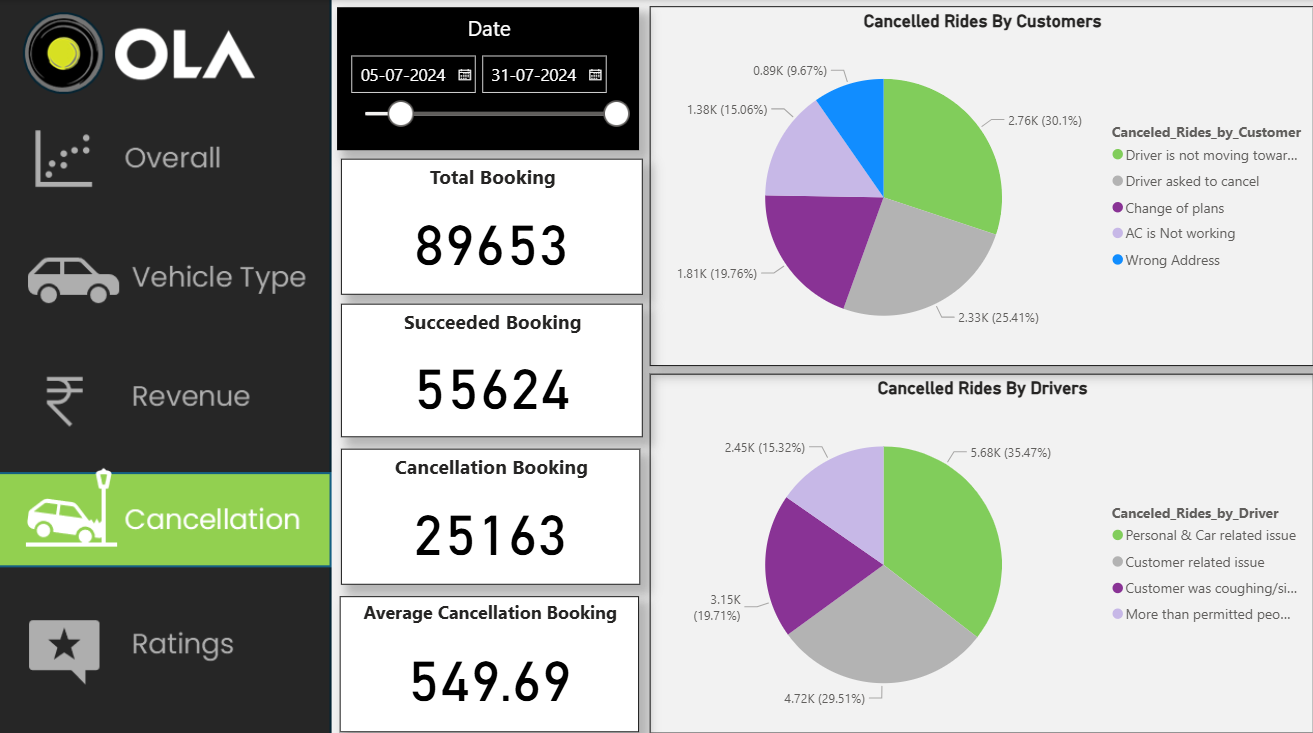

The dashboard page shown, as its layout file describes it:
{"tool":"powerbi","page":{"name":"Cancellation","canvas":[1280,720],"ordinal":3},"visuals":[{"type":"slicer","fields":{"Values":["Bookings.Date"]},"box":[329.8,6.8,291.4,137.8],"z":0},{"type":"card","title":"Total Booking","fields":{"Values":["CountNonNull(Bookings.Booking_ID)"]},"box":[332.6,153.6,291.4,131],"z":1000},{"type":"card","title":"Succeeded Booking","fields":{"Values":["CountNonNull(Bookings.Booking_ID)"]},"box":[332.6,293.7,291.4,128.8],"z":2000},{"type":"card","title":"Cancellation Booking","fields":{"Values":["CountNonNull(Bookings.Booking_ID)"]},"box":[332.6,433.7,289.1,131],"z":3000},{"type":"card","title":"Average Cancellation Booking","fields":{"Values":["Avg(Bookings.Booking_Value)"]},"box":[332.1,576,289.1,131],"z":4000},{"type":"pieChart","title":"Cancelled Rides By Customers","fields":{"Category":["Bookings.Canceled_Rides_by_Customer"],"Y":["CountNonNull(Bookings.Booking_ID)"]},"box":[631.4,5.9,641.2,347.1],"z":5000},{"type":"pieChart","title":"Cancelled Rides By Drivers","fields":{"Category":["Bookings.Canceled_Rides_by_Driver"],"Y":["CountNonNull(Bookings.Booking_Status)"]},"box":[631.4,360.8,641.2,347.1],"z":6000}]}

Visuals, with their boxes on the page's 1280x720 design canvas (x1, y1, x2, y2). These are canvas units, not pixel positions in the 1313x733 screenshot, which may show the page scaled, cropped or inside an application window:
slicer - Bookings.Date: [330, 7, 621, 145]
"Total Booking" card: [333, 154, 624, 285]
"Succeeded Booking" card: [333, 294, 624, 422]
"Cancellation Booking" card: [333, 434, 622, 565]
"Average Cancellation Booking" card: [332, 576, 621, 707]
"Cancelled Rides By Customers" pieChart: [631, 6, 1273, 353]
"Cancelled Rides By Drivers" pieChart: [631, 361, 1273, 708]
